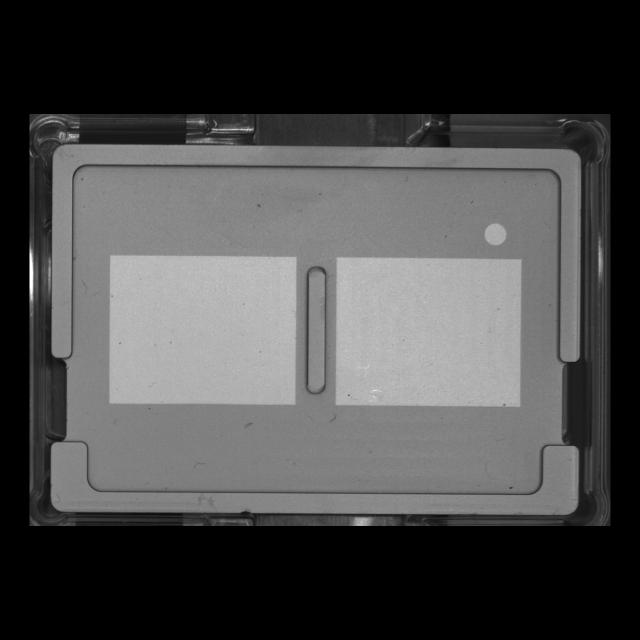door: (41, 429, 592, 523)
point: (481, 218, 512, 250)
